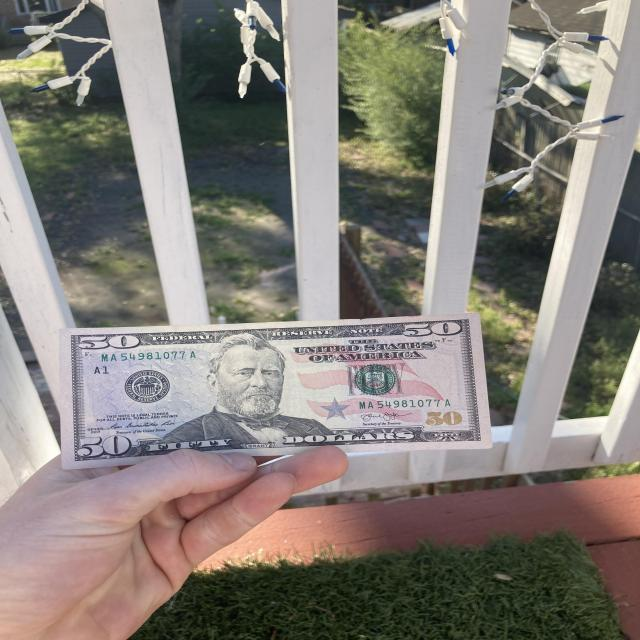fifty: (54, 305, 493, 471)
